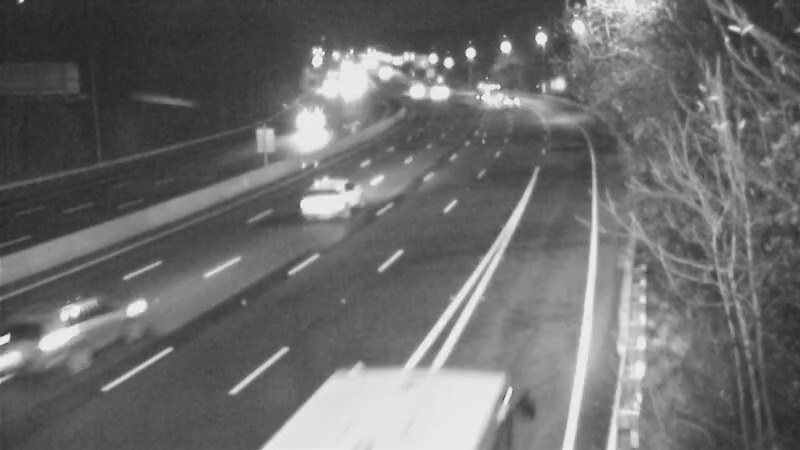vehicle: (14, 277, 124, 387), (286, 162, 366, 242), (456, 61, 506, 111), (385, 60, 435, 110), (415, 64, 465, 114), (481, 71, 531, 121), (274, 98, 324, 148)
